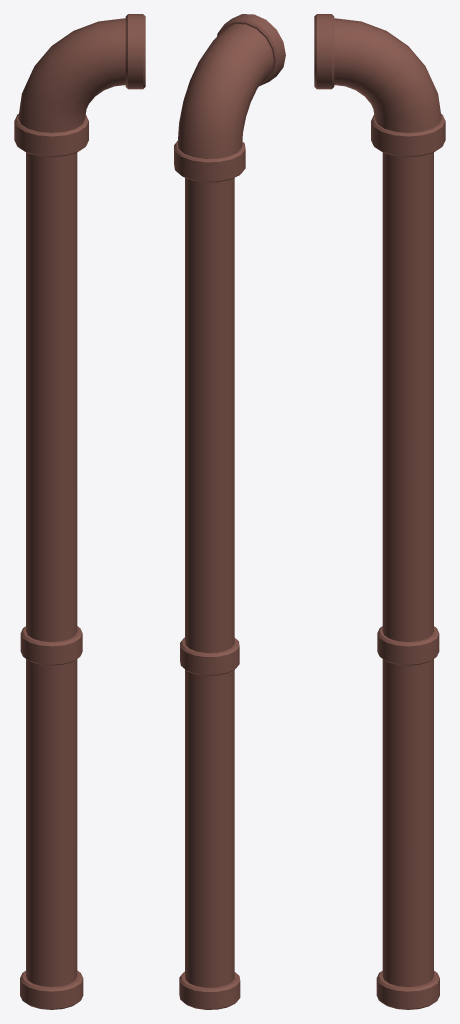
Rendered from Pipe.fbx.
3 renders of one model, left to right at view 1: azimuth 90°, elevation 25°; view 2: azimuth 150°, elevation 25°; view 3: azimuth 270°, elevation 25°, orthographic. The views are drawn at different scales.
Visible parts, largest first — view 1: Cylinder; view 2: Cylinder; view 3: Cylinder.
Part boxes in pixels (x1,y1,x2,y2): Cylinder: (14,14,145,1009); Cylinder: (174,14,285,1009); Cylinder: (314,14,445,1009).
Bounding box in the file's own units: 6.99 × 100 × 12.17.
